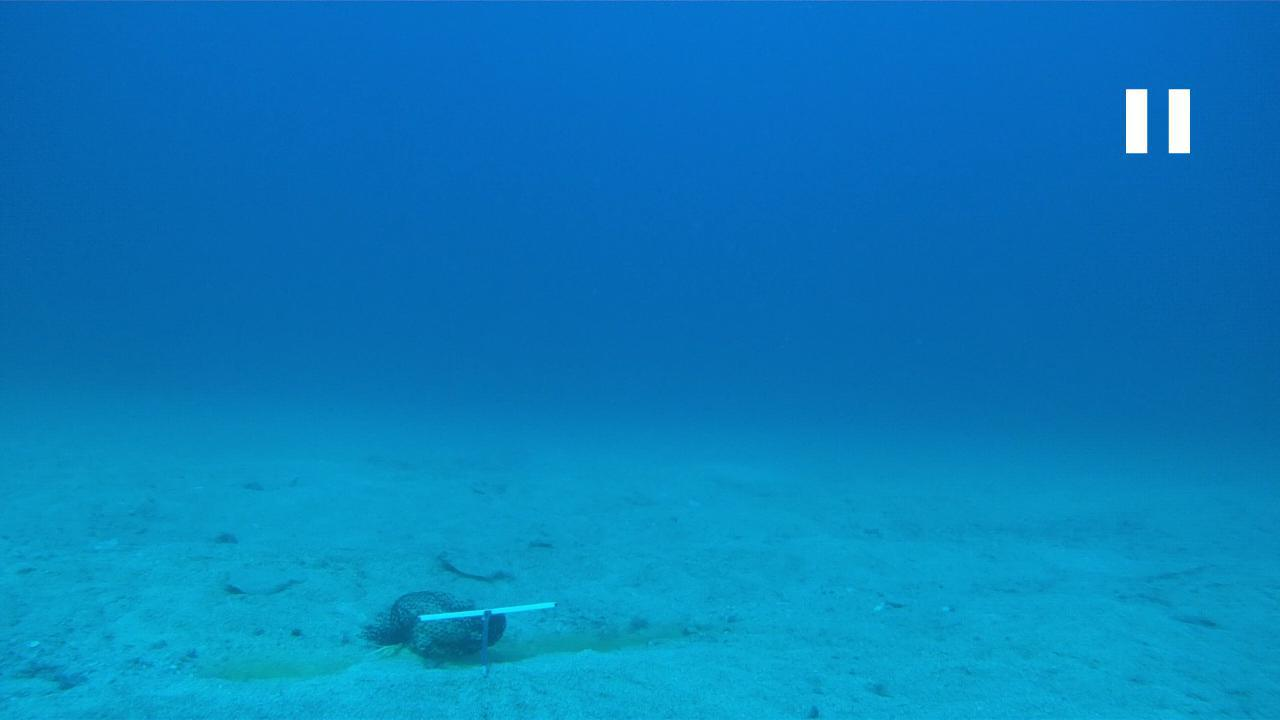bothus: (429, 536, 526, 588), (209, 558, 312, 599)
